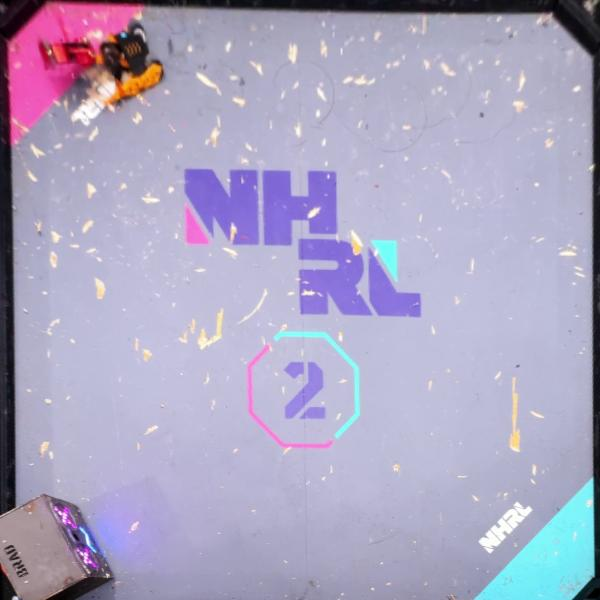housebot: (0, 492, 114, 599)
robot: (96, 20, 165, 108), (38, 39, 97, 69)
